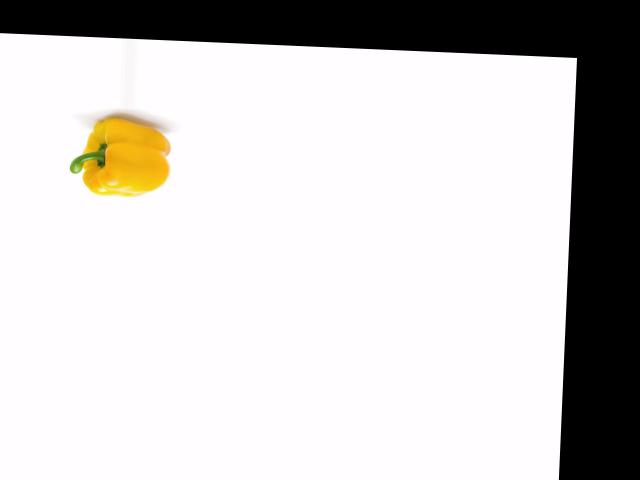bell_pepper: (59, 116, 175, 202)
